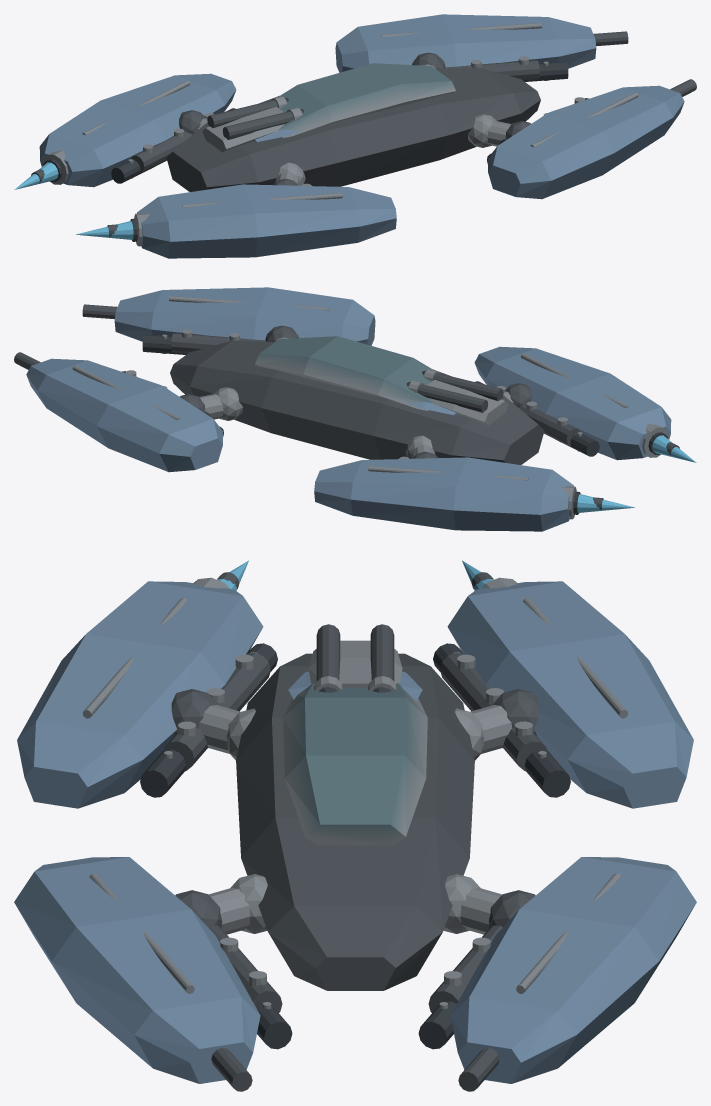
The model's file is x5_blue_compact_flight.glb.
The picture shows the model from 3 angles, top to bottom: view 1: azimuth 30°, elevation 25°; view 2: azimuth 150°, elevation 25°; view 3: azimuth 270°, elevation 25°; orthographic projection. The views are drawn at different scales.
Parts seen in each view (by area): view 1: pod_armor_10, center_hull_0, cabin_base_1, pod_mechanics_16, missile_body_3, pod_rail_11, launcher_saddle_2, outer_joint_9, inner_drive_rail_18, engine_flame_15, inner_joint_7, forward_gun_12 (+3 smaller); view 2: pod_armor_10, center_hull_0, cabin_base_1, pod_mechanics_16, missile_body_3, pod_rail_11, launcher_saddle_2, outer_joint_9, inner_drive_rail_18, engine_flame_15, inner_joint_7, forward_gun_12 (+3 smaller); view 3: pod_armor_10, center_hull_0, cabin_base_1, pod_mechanics_16, inner_drive_rail_18, mechanical_arms_8, outer_joint_9, inner_joint_7, pod_rail_11, missile_body_3, mechanical_crossbeam_17, forward_gun_12 (+1 smaller).
Boxes of the visible parts, x1,y1,x2,y2 form: pod_armor_10: (39, 14, 684, 258); center_hull_0: (166, 67, 540, 191); cabin_base_1: (278, 63, 455, 137); pod_mechanics_16: (131, 60, 589, 173); missile_body_3: (207, 98, 302, 139); pod_rail_11: (82, 23, 638, 207); launcher_saddle_2: (202, 106, 284, 152); outer_joint_9: (179, 52, 530, 185); inner_drive_rail_18: (111, 61, 568, 183); engine_flame_15: (14, 162, 133, 239); inner_joint_7: (278, 114, 496, 185); forward_gun_12: (31, 31, 696, 236); pod_armor_10: (26, 287, 671, 531); center_hull_0: (170, 340, 544, 464); cabin_base_1: (255, 336, 432, 410); pod_mechanics_16: (121, 333, 579, 446); missile_body_3: (408, 371, 503, 412); pod_rail_11: (72, 296, 628, 480); launcher_saddle_2: (427, 379, 508, 425); outer_joint_9: (180, 325, 531, 458); inner_drive_rail_18: (142, 334, 599, 456); engine_flame_15: (577, 435, 696, 512); inner_joint_7: (214, 387, 432, 458); forward_gun_12: (14, 304, 679, 509); pod_armor_10: (14, 581, 696, 1083); center_hull_0: (236, 653, 474, 990); cabin_base_1: (283, 683, 427, 845); pod_mechanics_16: (163, 652, 547, 1012); inner_drive_rail_18: (140, 643, 570, 1049); mechanical_arms_8: (198, 705, 512, 934); outer_joint_9: (171, 689, 539, 928); inner_joint_7: (226, 708, 484, 933); pod_rail_11: (82, 598, 628, 993); missile_body_3: (316, 624, 394, 691); mechanical_crossbeam_17: (178, 654, 532, 985); forward_gun_12: (211, 572, 499, 1091).
Bounding box in the file's own units: 7.38 × 0.9 × 4.06.
